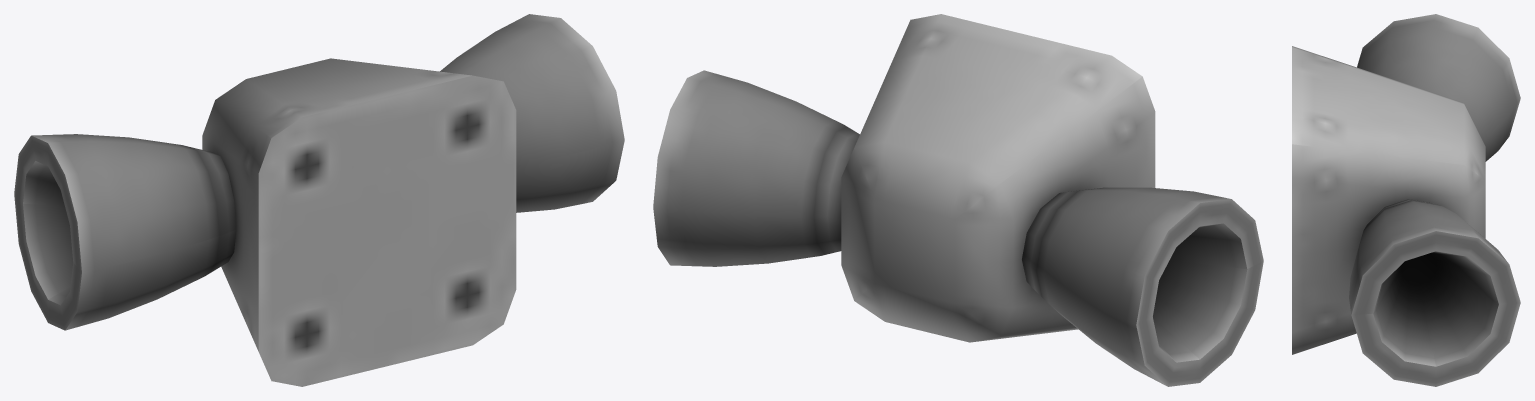
File: rcs2.fbx
The picture shows the model from 3 angles, left to right: view 1: azimuth 30°, elevation 25°; view 2: azimuth 150°, elevation 25°; view 3: azimuth 270°, elevation 25°; orthographic projection. The views are drawn at different scales.
Visible parts, largest first — view 1: mesh; view 2: mesh; view 3: mesh.
Part boxes in pixels (box(x1,y1,x2,y2)): mesh: box(14, 14, 624, 386); mesh: box(653, 14, 1263, 386); mesh: box(1292, 14, 1520, 386).
Bounding box in the file's own units: 0.1579 × 0.075 × 0.0665.
1 material, 1 textured.
